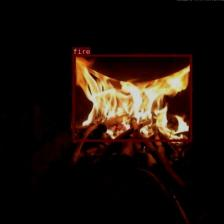fire: (72, 54, 192, 142)
